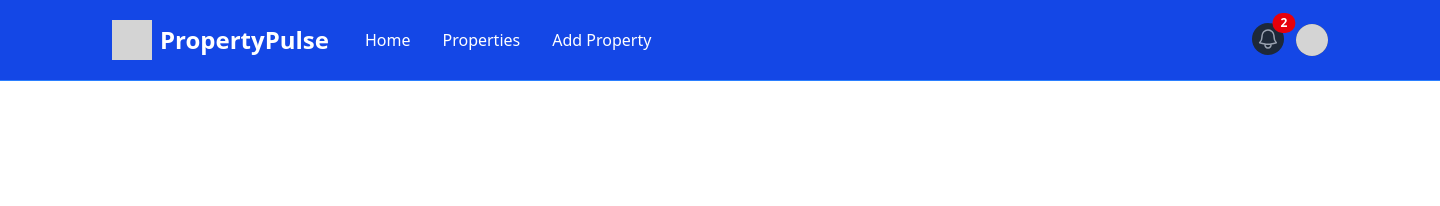
Test: NavBar › Mobile & Desktop - logged in status › toggles profile menu when button is clicked
Click the 2nd button named "open user menu" at x=1312, y=40, box [1296, 24, 1328, 56]
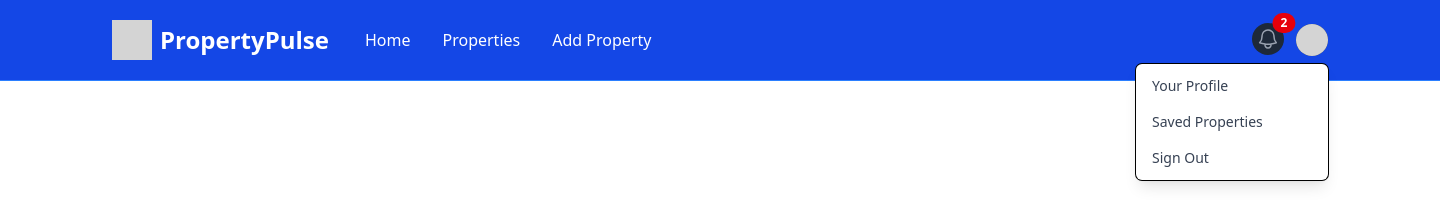
Result: the menu with test id "profile-menu" is shown at [1136, 64, 1328, 180]
Click the 2nd button named "open user menu" at x=1312, y=40, box [1296, 24, 1328, 56]
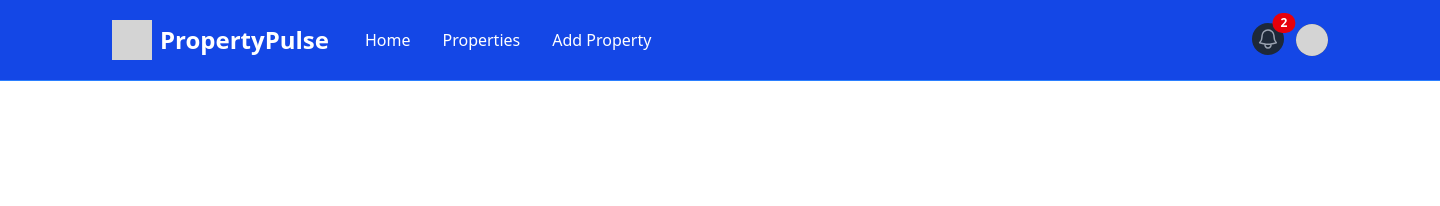
Result: the menu with test id "profile-menu" is gone
